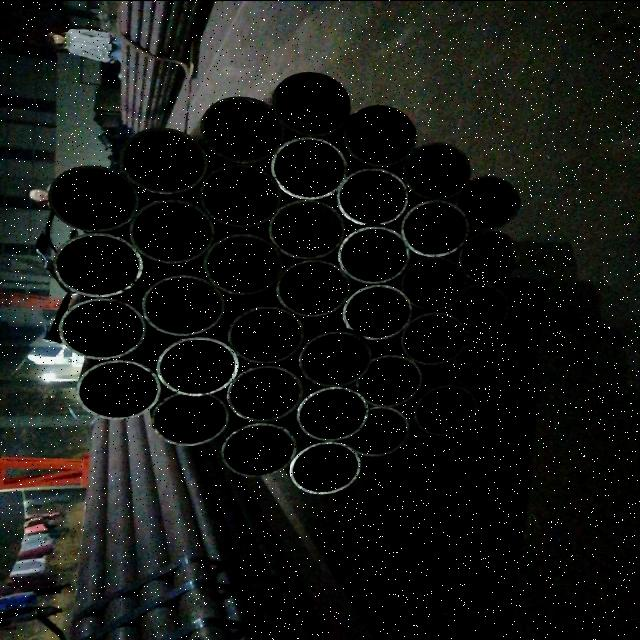pipe: (48, 164, 138, 234), (52, 234, 142, 298), (123, 127, 207, 193), (200, 98, 284, 162), (198, 163, 282, 227), (126, 201, 212, 263), (54, 299, 144, 358), (153, 337, 239, 397), (202, 232, 282, 296), (75, 360, 159, 420), (143, 275, 225, 335), (272, 72, 350, 134), (268, 137, 346, 199), (341, 104, 416, 164), (268, 200, 342, 260), (274, 259, 350, 317), (220, 424, 300, 478), (336, 227, 410, 285), (298, 331, 372, 389), (228, 307, 302, 365), (224, 366, 300, 422), (151, 393, 229, 447), (402, 142, 472, 202), (284, 442, 360, 496), (336, 168, 406, 226), (295, 387, 369, 441), (342, 284, 412, 340), (398, 311, 468, 365), (402, 201, 468, 258), (338, 407, 410, 459), (400, 257, 468, 311), (356, 354, 422, 408), (452, 340, 518, 393), (412, 385, 479, 437), (455, 175, 519, 229), (458, 230, 522, 284), (449, 283, 511, 335)
